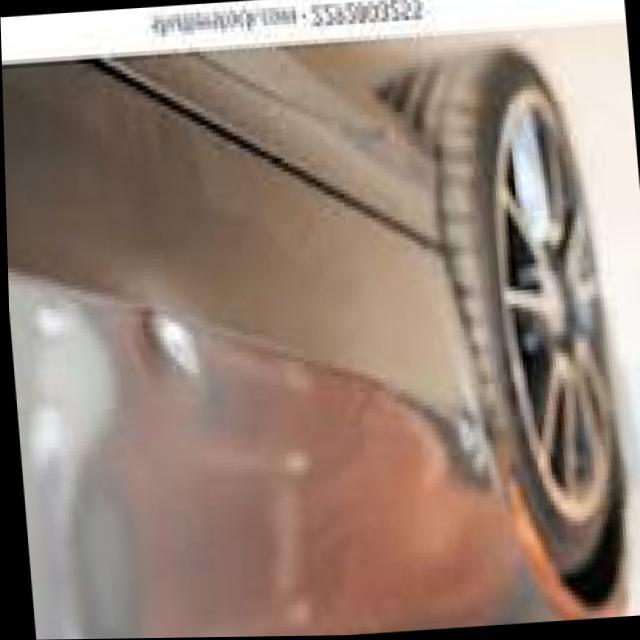Dent: (120, 292, 217, 394)
